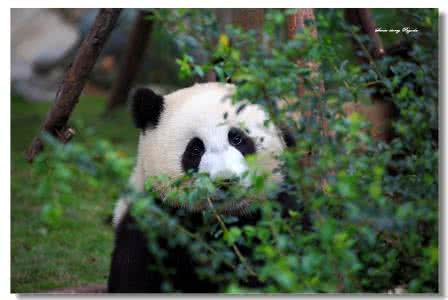panda: (100, 78, 315, 295)
